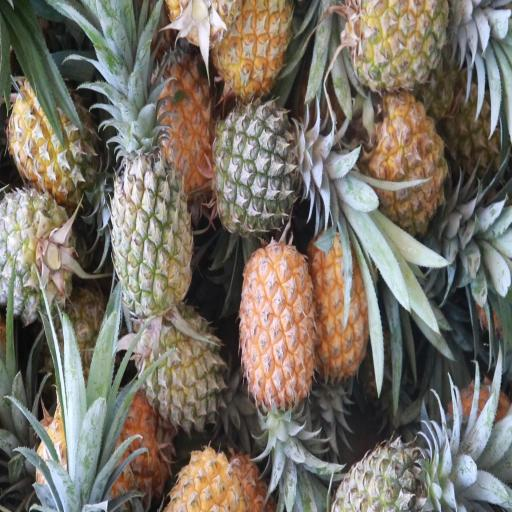------------------------------: (111, 130, 192, 314), (5, 77, 92, 193), (138, 310, 224, 425), (349, 0, 447, 92)
Pineapple - v8 v1: (238, 246, 316, 408), (370, 98, 448, 228), (309, 231, 372, 384), (153, 51, 216, 191), (217, 0, 290, 100)
